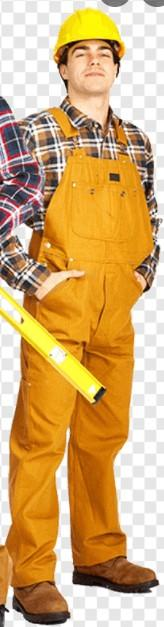boots: (11, 551, 164, 626)
hat: (53, 5, 126, 57)
no protective face gear: (64, 52, 122, 99)
no vest: (19, 114, 160, 298)
